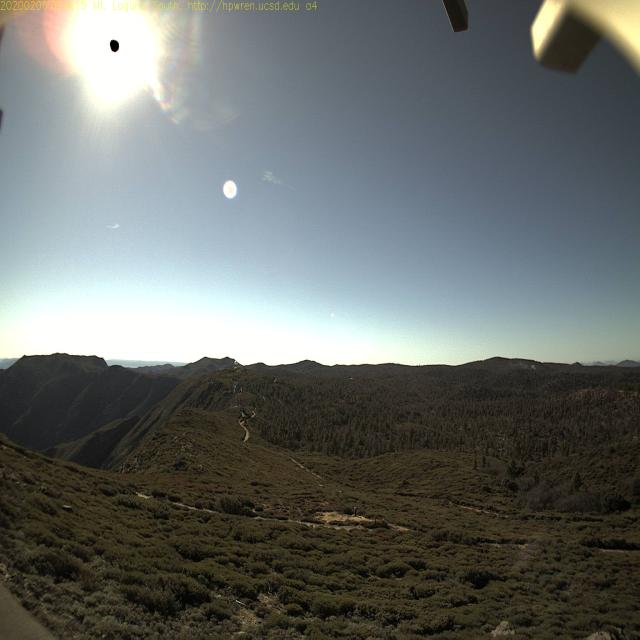smoke: (504, 357, 538, 371)
